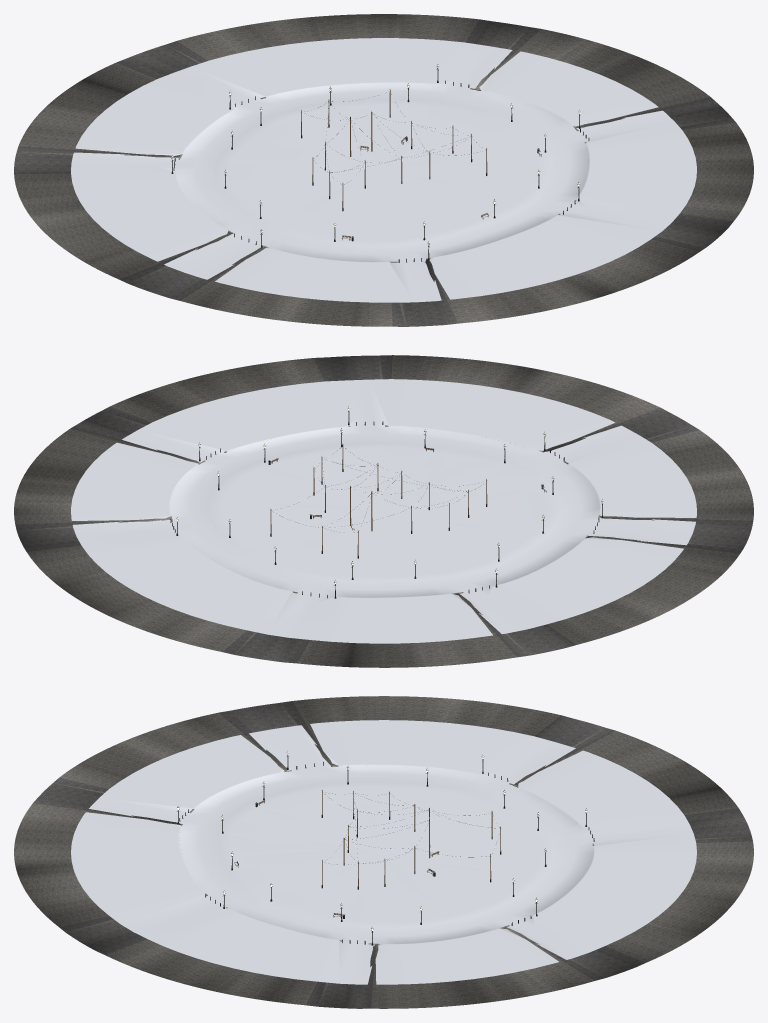
File: square.glb
The picture shows the model from 3 angles, top to bottom: view 1: azimuth 30°, elevation 25°; view 2: azimuth 150°, elevation 25°; view 3: azimuth 270°, elevation 25°; orthographic projection.
Visible parts, largest first — view 1: snow_ground, ground, street_iron, poles_wood; view 2: snow_ground, ground, street_iron, poles_wood; view 3: snow_ground, ground, street_iron, poles_wood.
Part boxes in pixels (x1,y1,x2,y2): snow_ground: (71, 38, 696, 302); ground: (14, 14, 753, 326); street_iron: (171, 64, 589, 262); poles_wood: (301, 90, 487, 208); snow_ground: (71, 379, 696, 643); ground: (14, 355, 753, 667); street_iron: (170, 406, 603, 598); poles_wood: (270, 445, 487, 555); snow_ground: (71, 720, 696, 984); ground: (14, 696, 753, 1008); street_iron: (177, 753, 594, 945); poles_wood: (322, 790, 501, 886).
Size of the model in its own units: 156 by 9.74 by 156.
13 materials, 8 textured.
